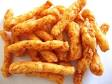kurkure: (4, 5, 98, 72)
